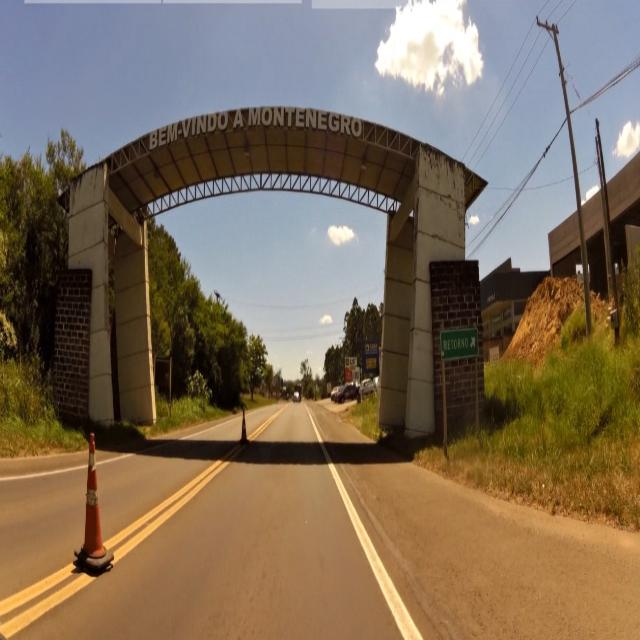I-4: (444, 332, 479, 358)
